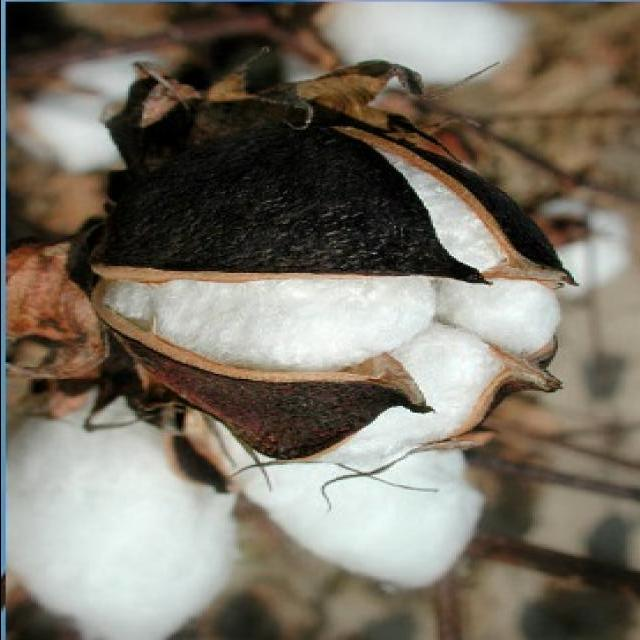Matured Cotton Boll: (0, 412, 246, 636)
Split Cotton Boll: (91, 105, 564, 471)
